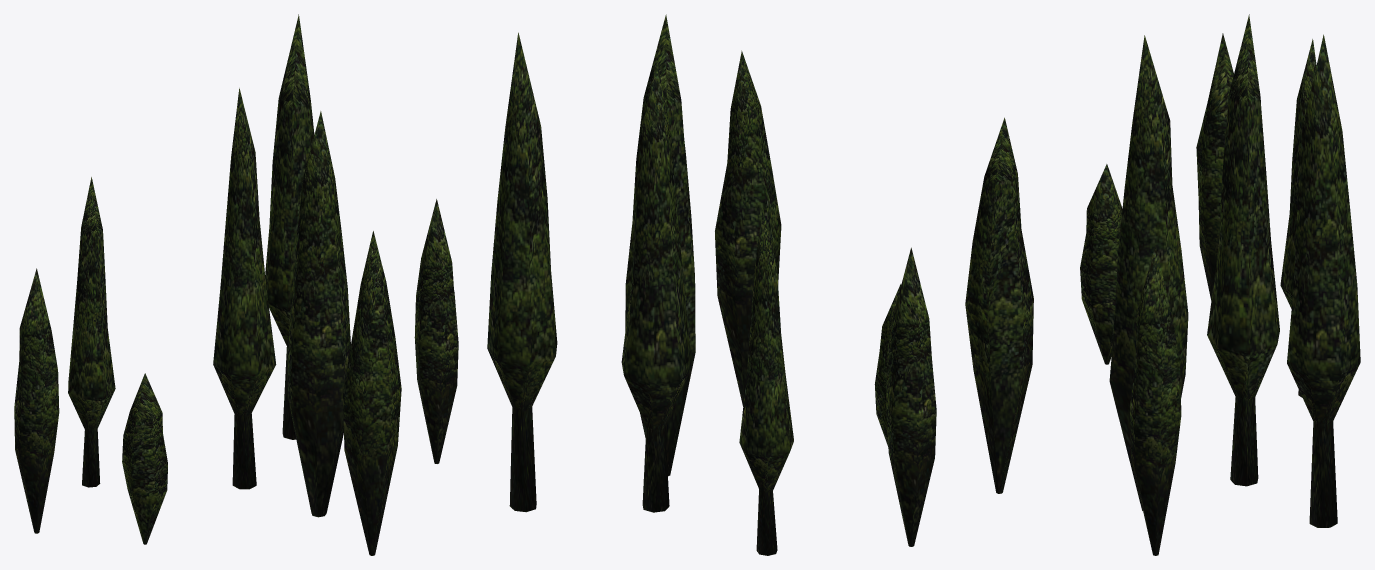
File: trees_cypress_01.dae
3 renders of one model, left to right at view 1: azimuth 30°, elevation 25°; view 2: azimuth 150°, elevation 25°; view 3: azimuth 270°, elevation 25°, orthographic. The views are drawn at different scales.
Visible parts, largest first — view 1: Cylinder005; view 2: Cylinder005; view 3: Cylinder005.
Boxes of the visible parts, x1,y1,x2,y2 form: Cylinder005: (14, 14, 458, 555); Cylinder005: (487, 14, 936, 555); Cylinder005: (965, 14, 1360, 555).
Bounding box in the file's own units: 6.24 × 6.29 × 4.45.
